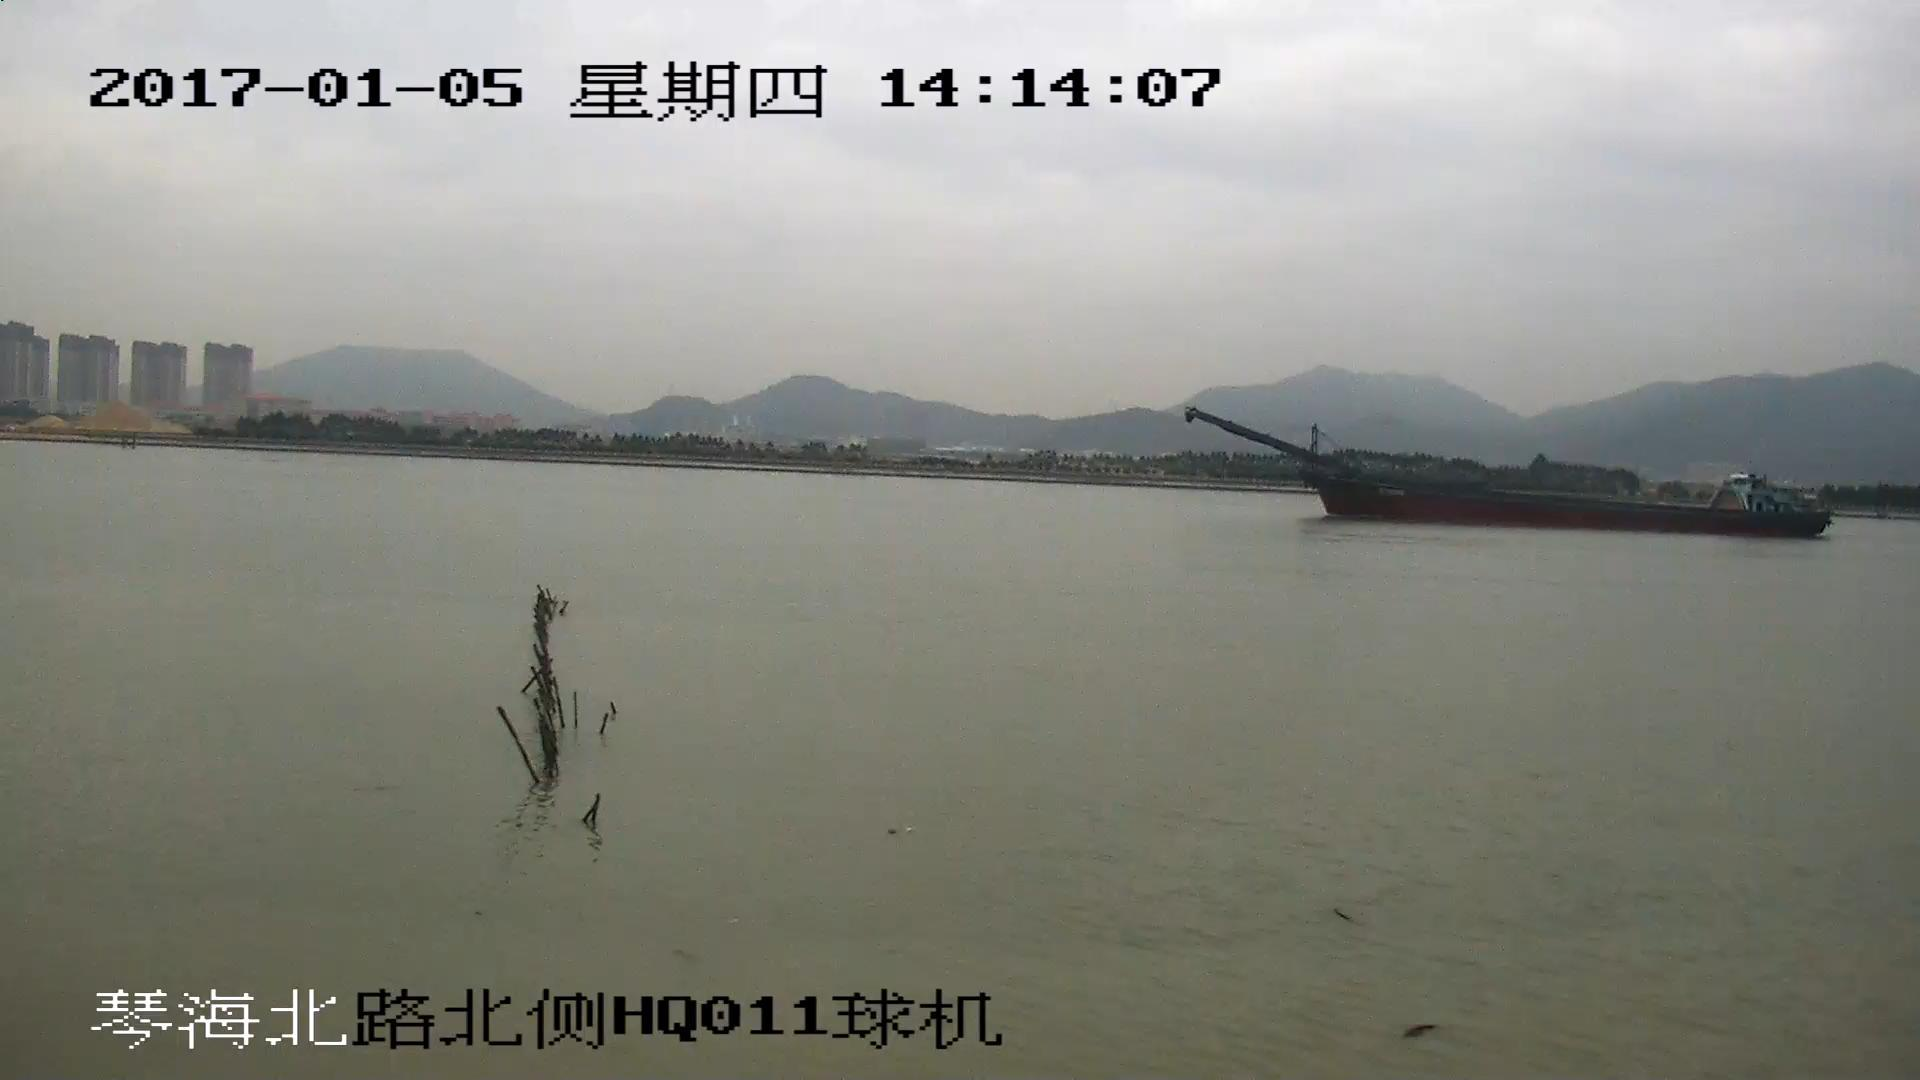Ship: (1189, 414, 1832, 541)
